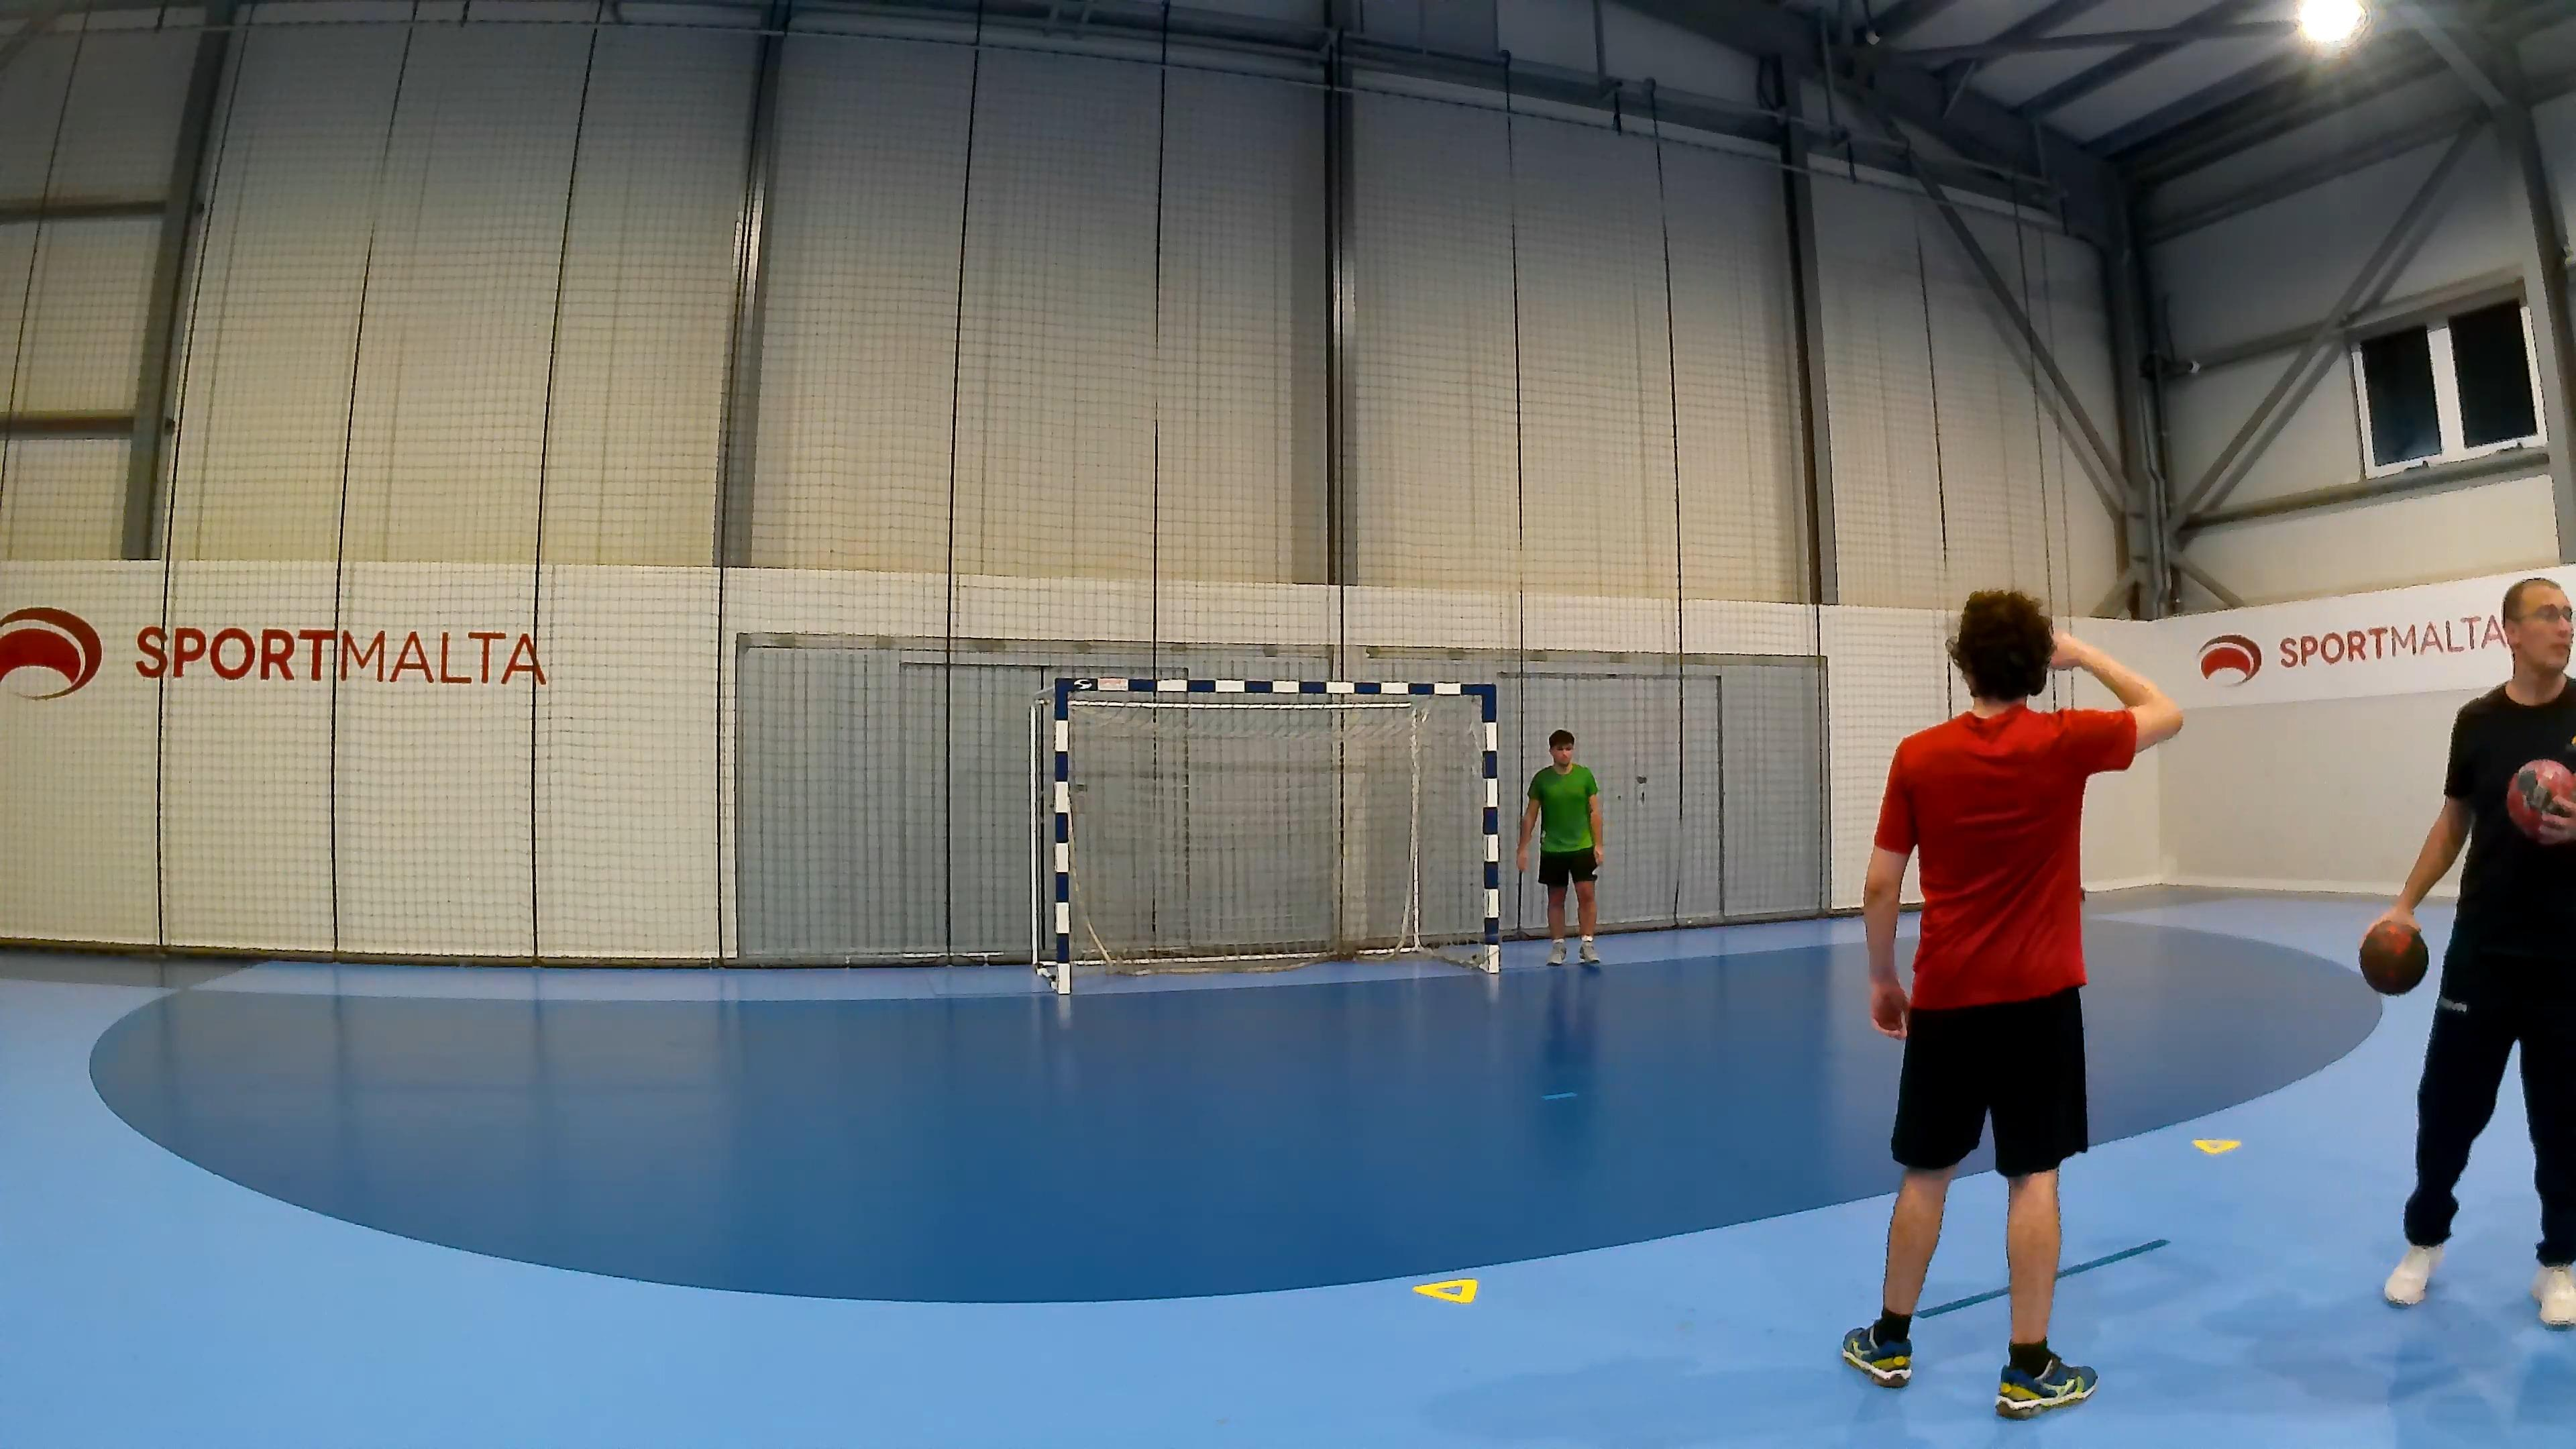handball: (2505, 755, 2574, 840), (2358, 916, 2429, 996)
